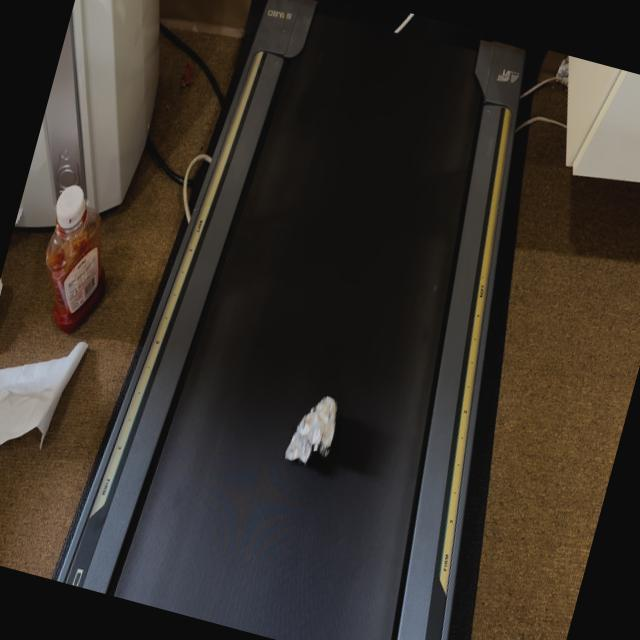Trash: (278, 390, 345, 482)
